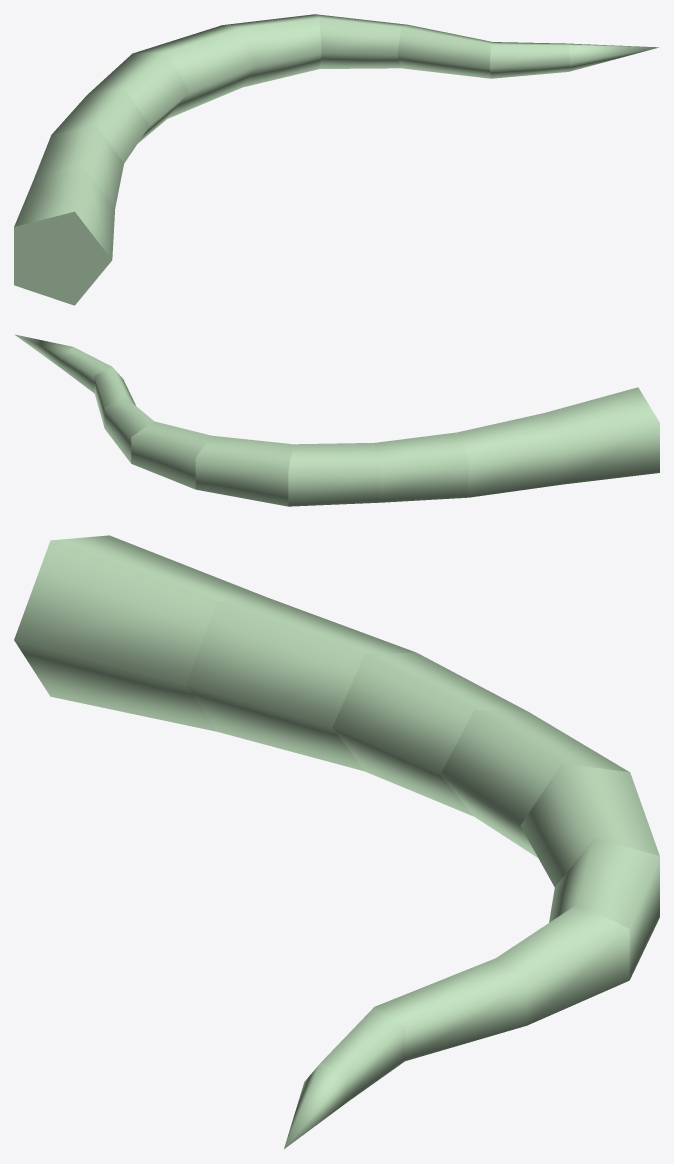
3 renders of one model, top to bottom at view 1: azimuth 30°, elevation 25°; view 2: azimuth 150°, elevation 25°; view 3: azimuth 270°, elevation 25°, orthographic. The views are drawn at different scales.
Parts seen in each view (by area): view 1: Object41; view 2: Object41; view 3: Object41.
Part boxes in pixels (x1,y1,x2,y2): Object41: (14, 14, 658, 305); Object41: (14, 334, 659, 506); Object41: (14, 535, 659, 1148).
Size of the model in its own units: 25275 by 3256 by 12194.
